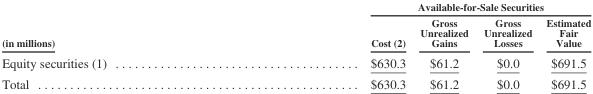table: (1, 0, 590, 90)
table column: (1, 0, 237, 90), (237, 0, 412, 90), (412, 0, 475, 90), (475, 0, 538, 90), (538, 0, 590, 90)
table column header: (1, 0, 590, 52)
table row: (1, 14, 590, 52), (1, 52, 590, 73), (1, 73, 590, 90), (1, 0, 590, 14)
table spanning cell: (1, 0, 237, 52), (237, 0, 590, 14)
